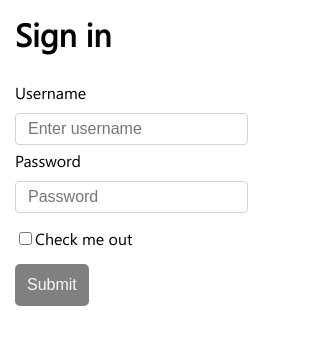
Test case: hides password error when password length is at least 8
The width and height of the screenshot is (320, 344).
Focus the password field with test id "signin-password" at (132, 196), box [15,180,248,212]
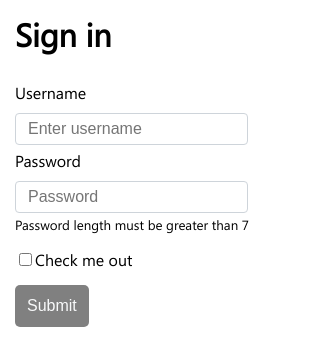
Type "testpass" into the password field with test id "signin-password" at (132, 196), box [15,180,248,212]
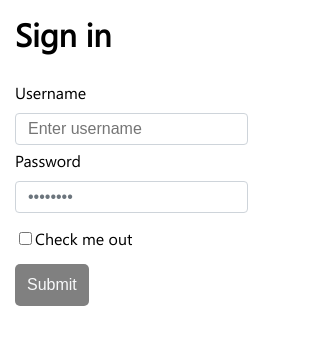
Expected: the text "Password length must be greater than 7" is gone
